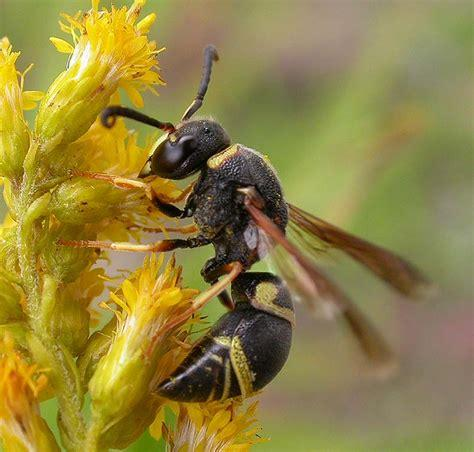Wasp: (441, 306, 474, 360)
